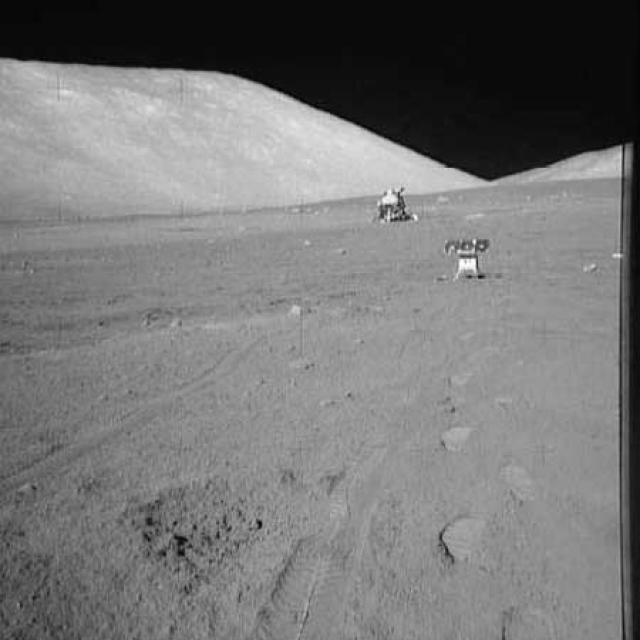artifact: (437, 232, 498, 282), (368, 182, 412, 225)
